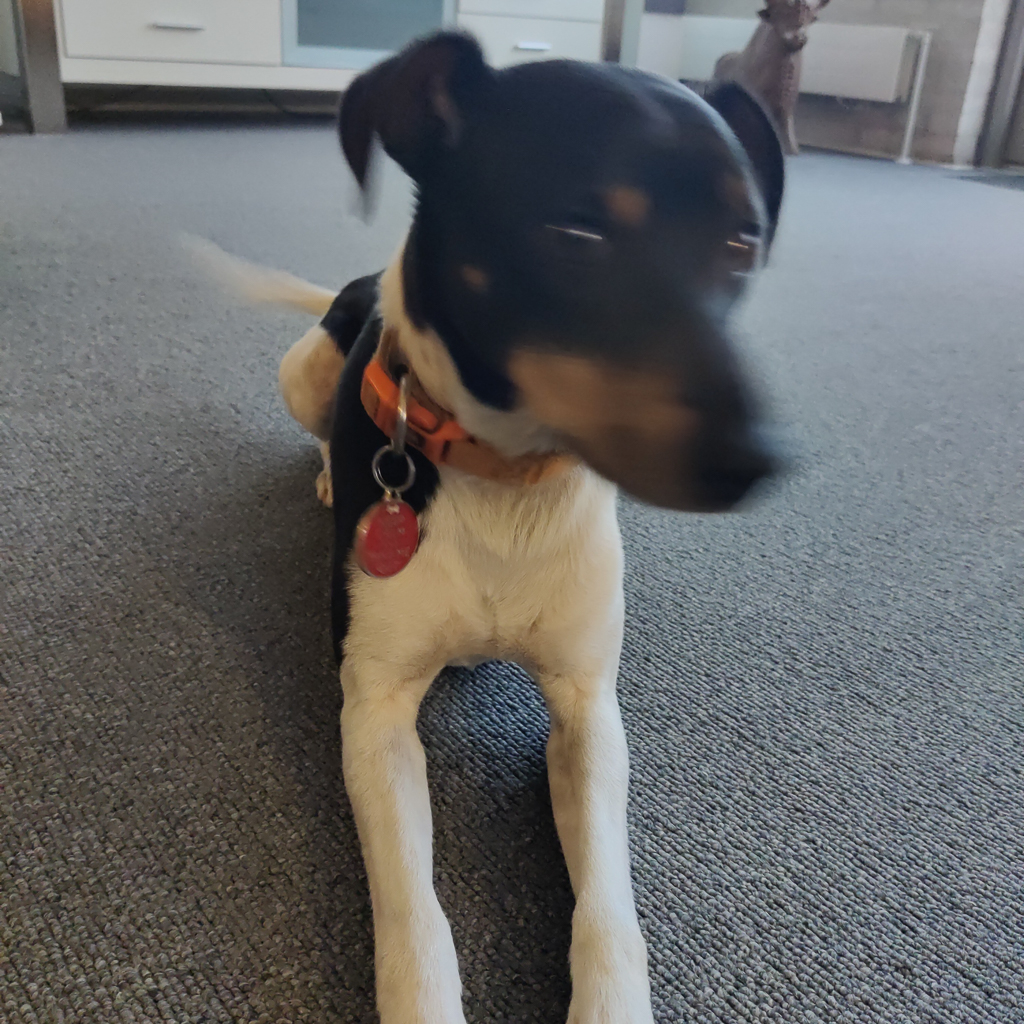Cattle: (700, 0, 841, 161)
Dog: (144, 18, 830, 1024)
